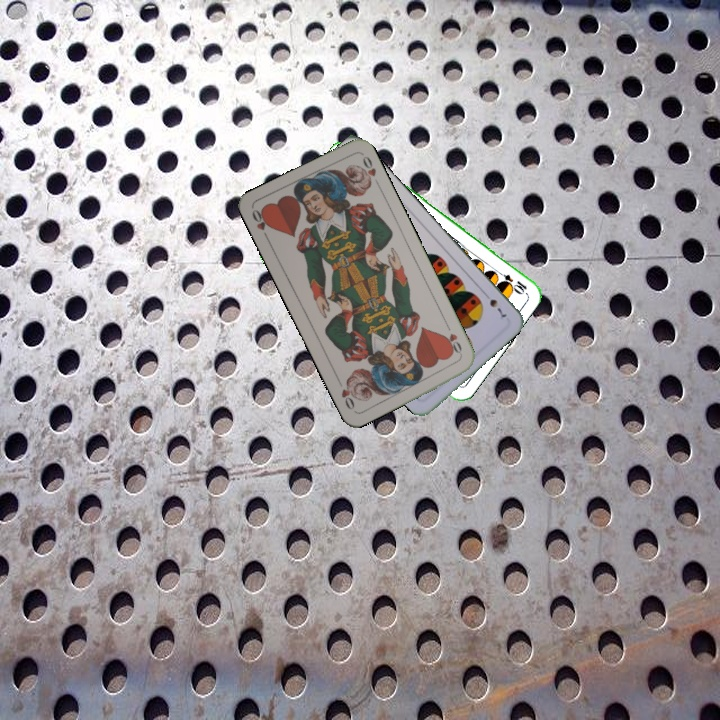E10: (492, 267, 529, 296)
HO: (440, 320, 465, 359), (248, 205, 273, 244)
S7: (479, 288, 509, 320)
